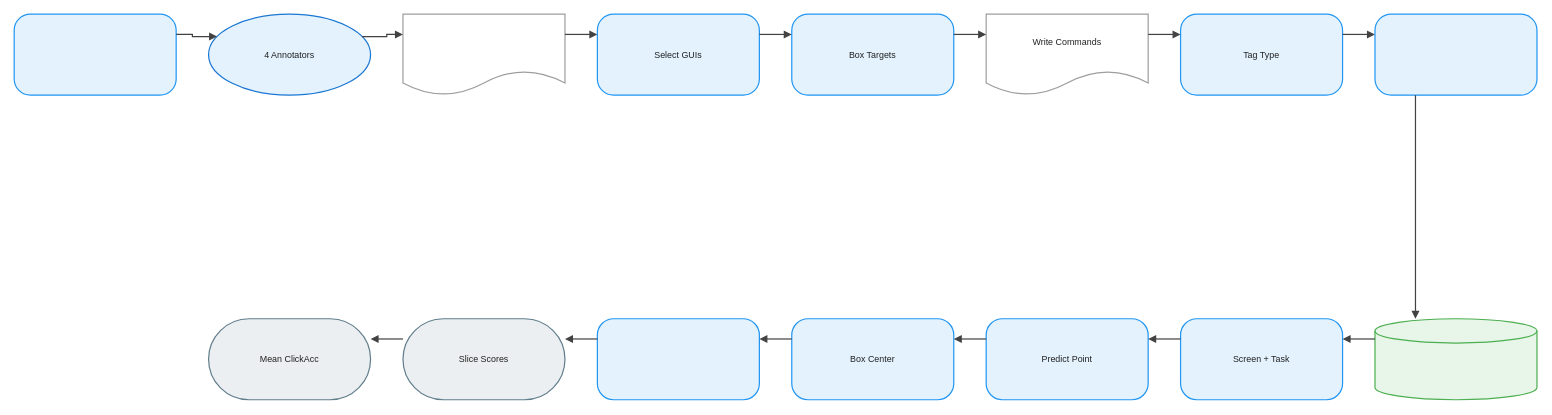
Image size: 1552x415. Some labels were removed from this diagram. The centre of each missing label's shape, as x and y in pixels:
"3 Platforms" belongs at pixel 94 54.
"Capture UI" belongs at pixel 483 54.
"Freeze 1,200+" belongs at pixel 1455 359.
"Inside GT Box" belongs at pixel 678 359.
"Remove PII" belongs at pixel 1455 54.
